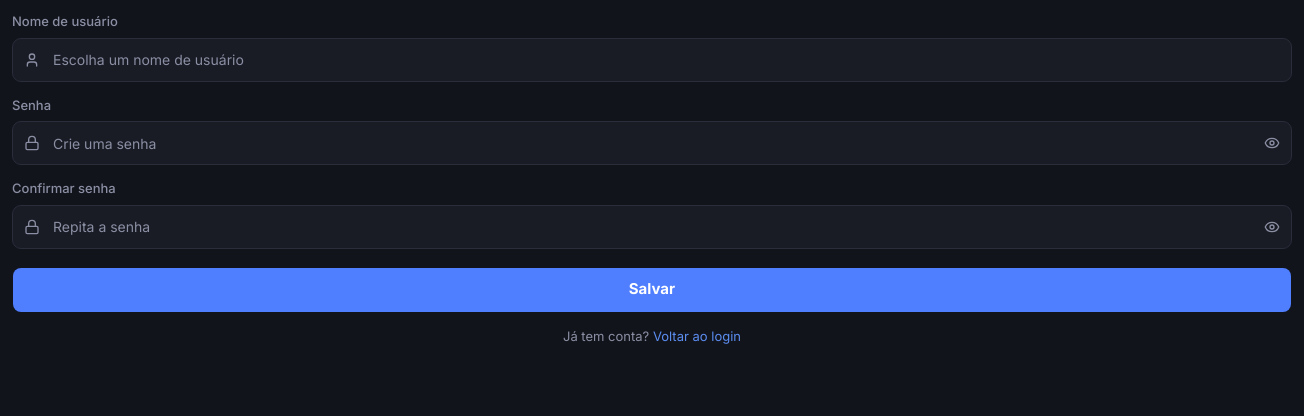
Test: RegisterForm › shows an inline error and does not navigate when registration fails
In the field with placeholder "Escolha um nome de usuário": (652, 60) [12, 38, 1292, 82], type "joaosilva"
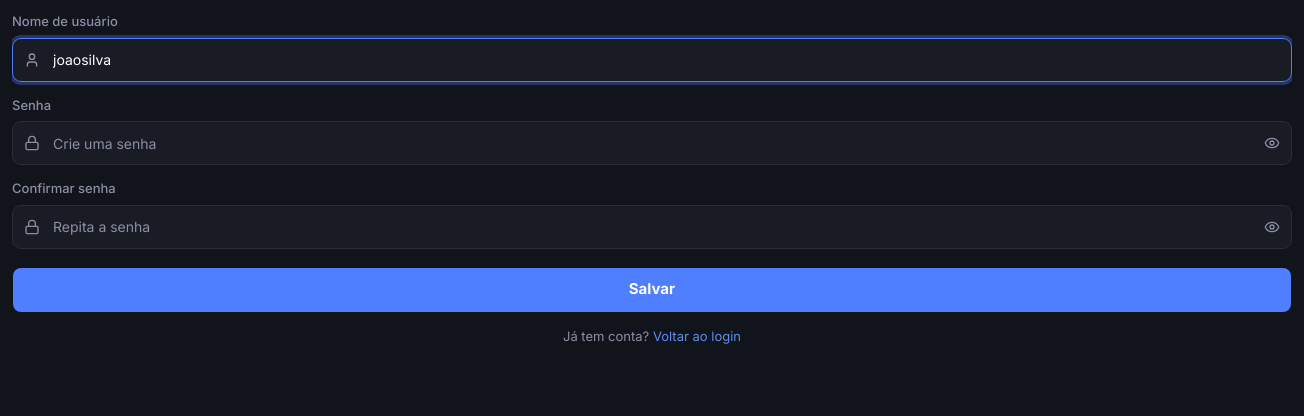
In the password field with placeholder "Crie uma senha": (652, 143) [12, 121, 1292, 165], type "senha123"
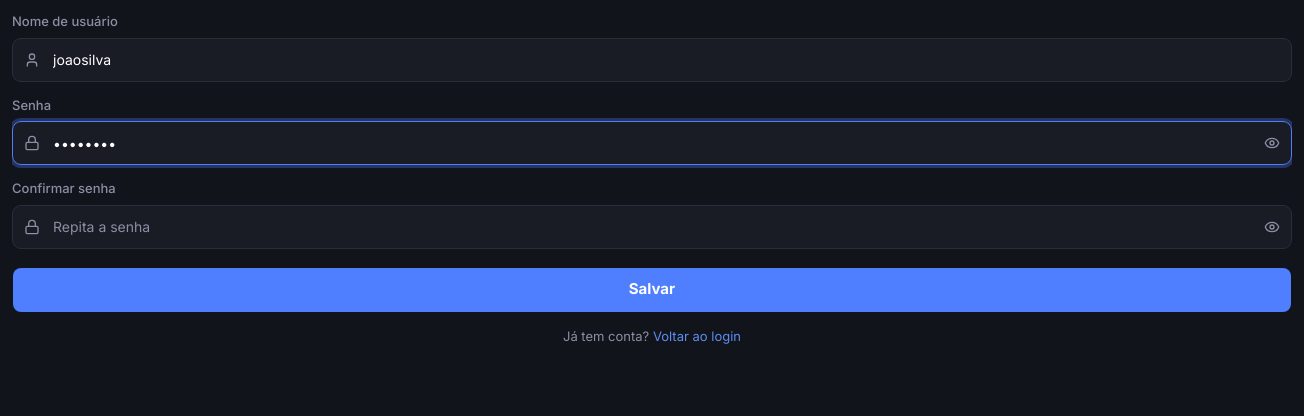
In the password field with placeholder "Repita a senha": (652, 226) [12, 204, 1292, 248], type "senha123"
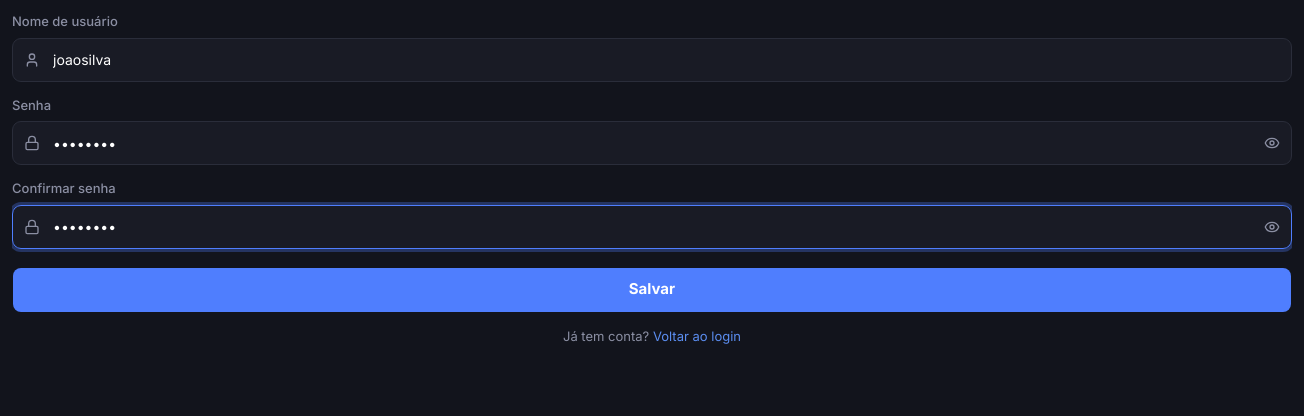
Click the button "Salvar": (652, 290) [12, 266, 1292, 312]
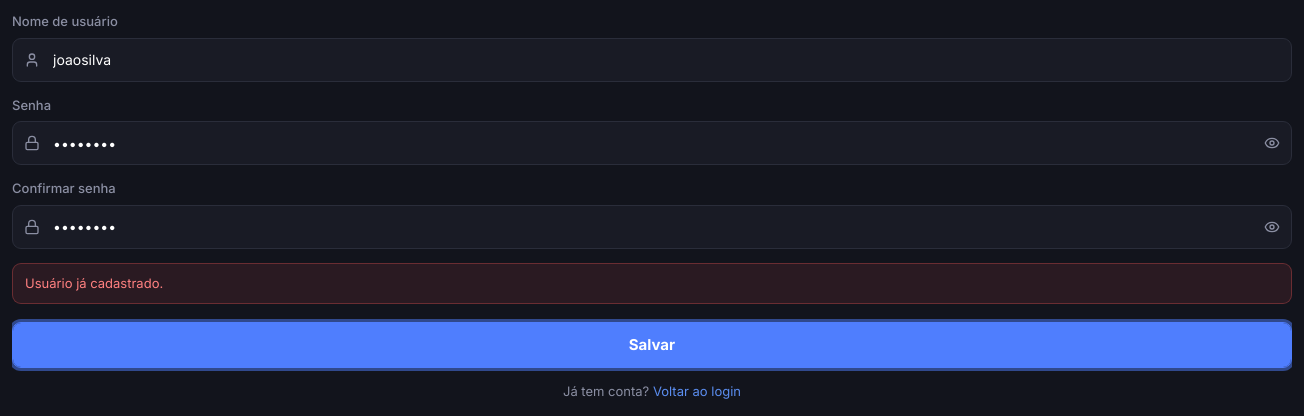
Now the text "Usuário já cadastrado." is shown, box [12, 262, 1292, 304]
